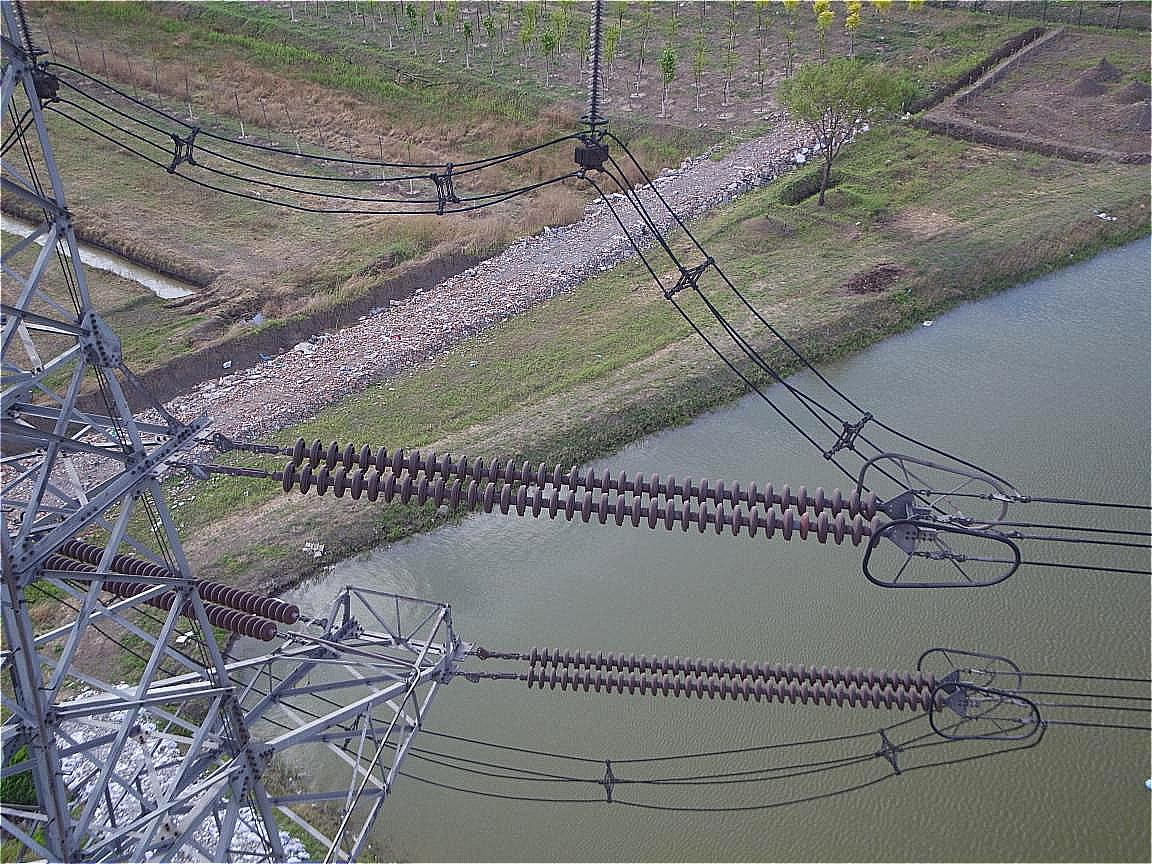insultor1: (258, 430, 899, 557), (35, 512, 309, 665), (505, 634, 964, 721)
